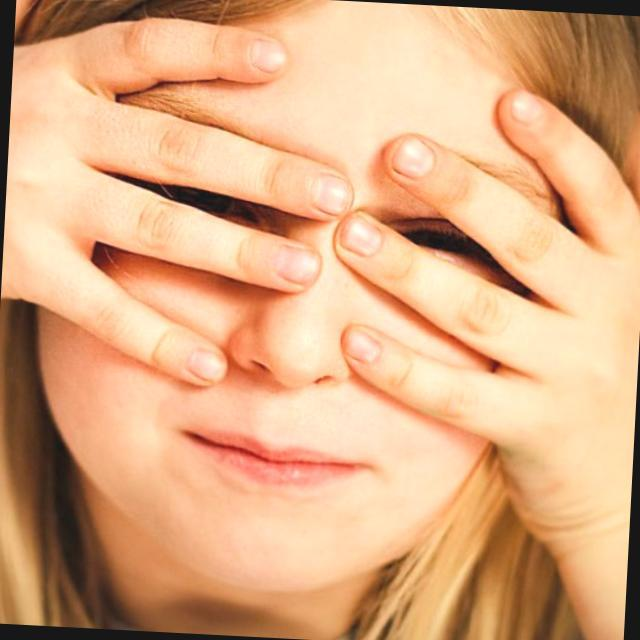7_mano_rostro: (12, 21, 640, 408)
